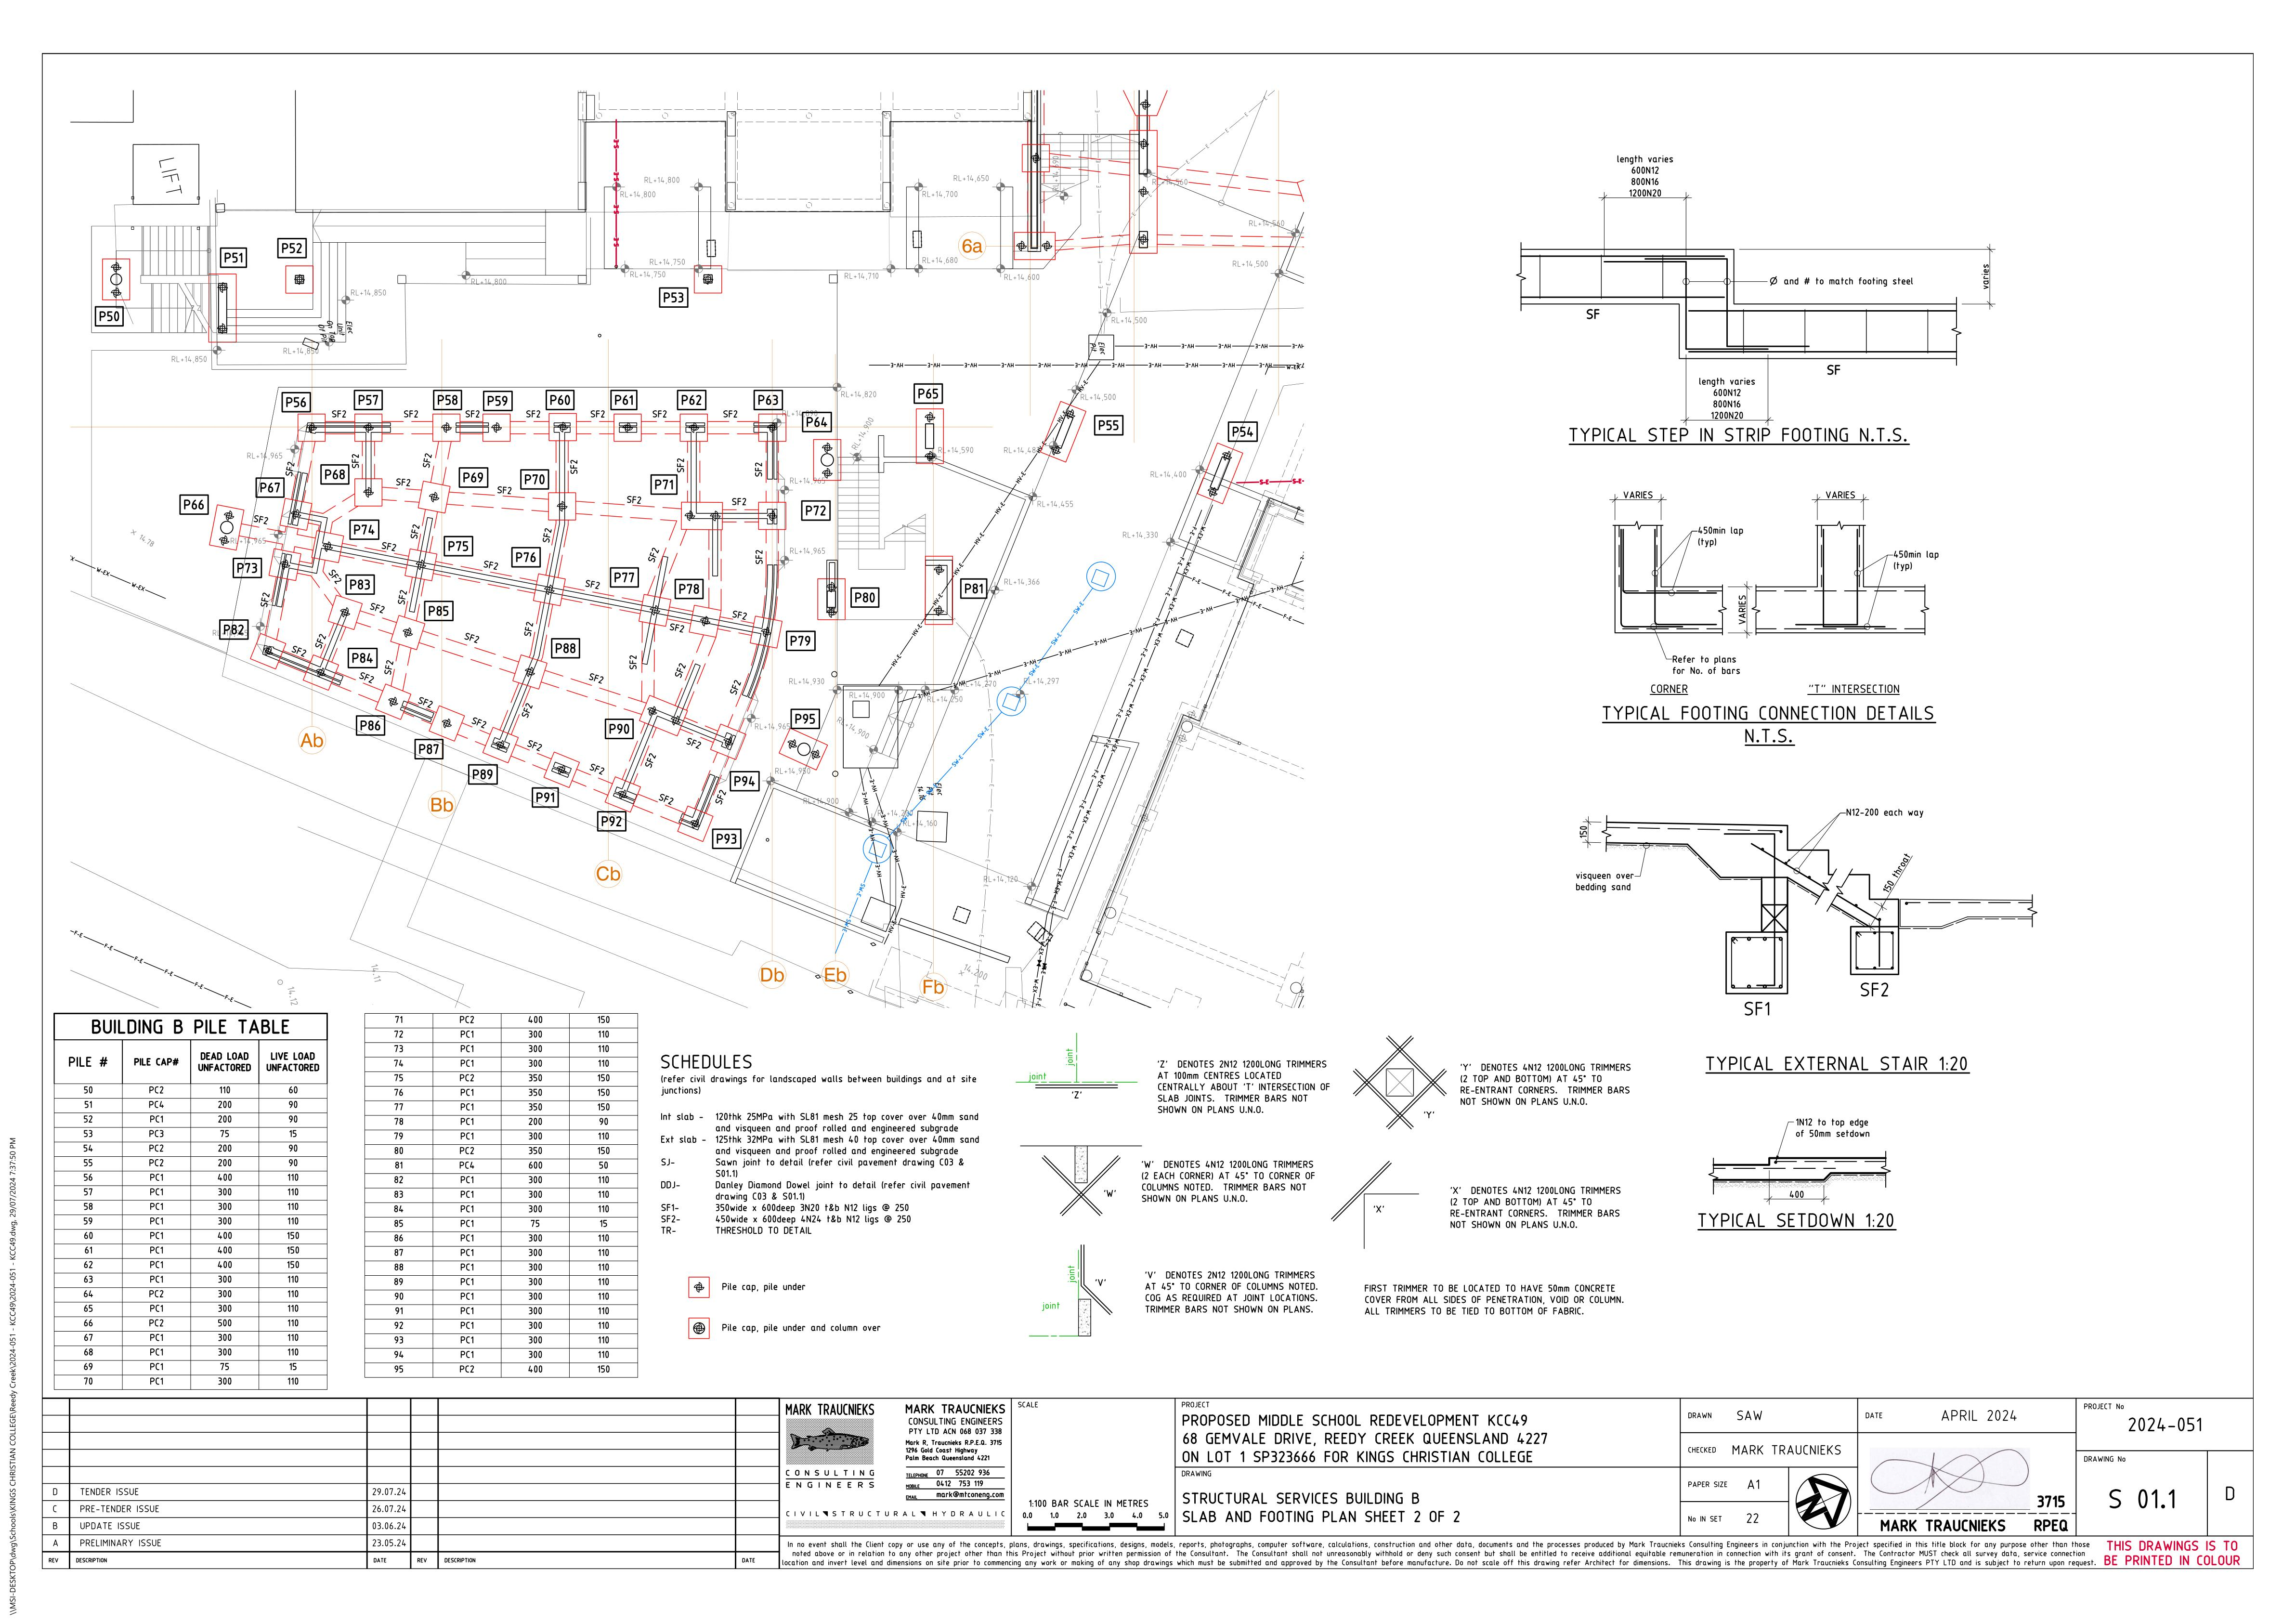P40: (549, 390, 576, 407)
P50: (93, 304, 125, 325)
P51: (221, 246, 251, 267)
P52: (272, 235, 309, 258)
P53: (658, 286, 690, 309)
P54: (1231, 423, 1257, 439)
P55: (1095, 414, 1125, 434)
P56: (284, 391, 311, 413)
P57: (353, 390, 381, 407)
P58: (434, 391, 460, 409)
P59: (486, 395, 511, 409)
P61: (609, 391, 637, 411)
P62: (676, 391, 707, 409)
P63: (755, 390, 785, 409)
P64: (804, 411, 830, 432)
P65: (916, 384, 943, 402)
P66: (177, 499, 207, 513)
P67: (255, 479, 284, 499)
P68: (319, 467, 349, 484)
P69: (462, 469, 488, 486)
P70: (521, 470, 548, 488)
P71: (649, 474, 676, 493)
P72: (800, 502, 830, 518)
P73: (235, 560, 260, 578)
P74: (353, 523, 374, 539)
P75: (442, 537, 469, 555)
P76: (511, 549, 537, 567)
P77: (614, 571, 635, 586)
P78: (678, 579, 702, 597)
P79: (785, 630, 816, 650)
P80: (851, 590, 876, 609)
P81: (960, 579, 988, 597)
P82: (221, 623, 246, 637)
P83: (349, 578, 374, 593)
P84: (353, 651, 376, 667)
P85: (425, 604, 449, 620)
P86: (360, 718, 383, 734)
P87: (418, 741, 444, 758)
P88: (551, 639, 578, 657)
P89: (472, 765, 499, 783)
P90: (607, 721, 630, 736)
P91: (534, 788, 560, 807)
P92: (600, 811, 623, 829)
P93: (711, 829, 743, 848)
P94: (732, 774, 758, 790)
P95: (790, 711, 818, 727)
